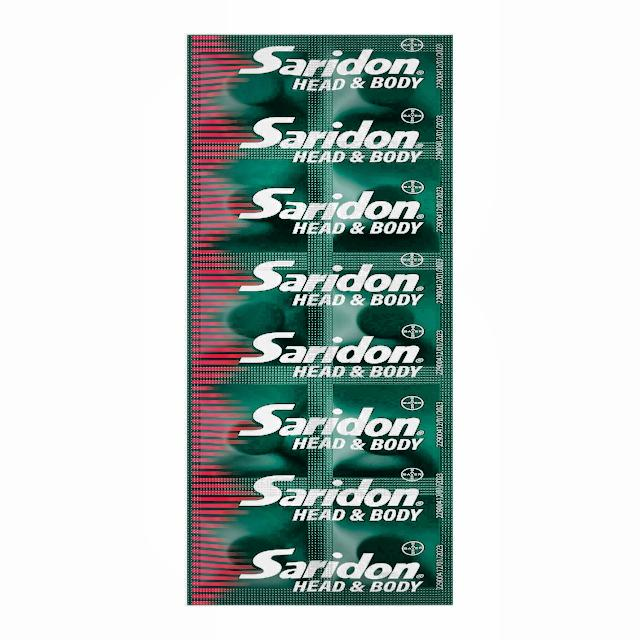Saridon: (193, 35, 452, 598)
